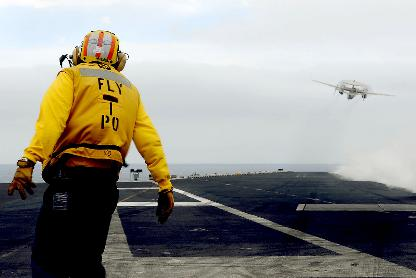C5: (310, 78, 396, 100)
